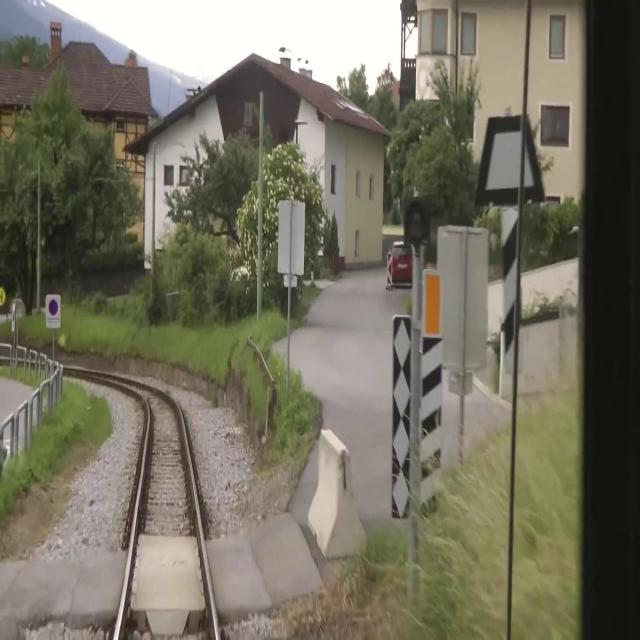rail-track: (117, 383, 215, 639)
